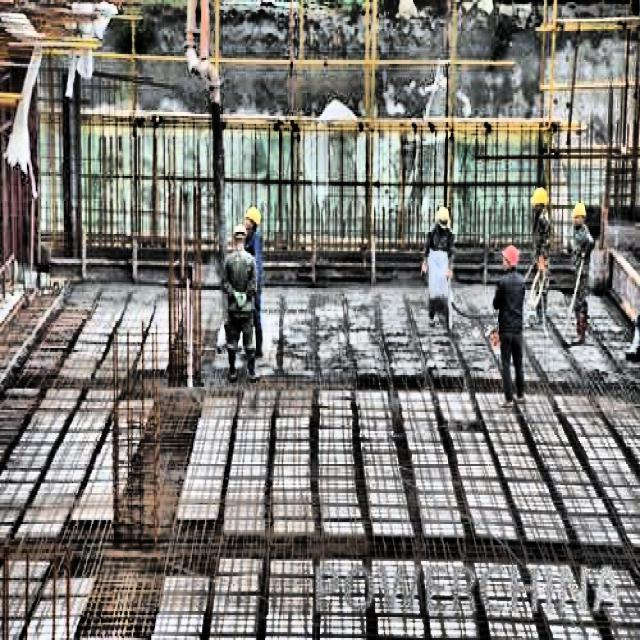helmet: (227, 218, 247, 254), (499, 243, 521, 274), (434, 203, 452, 236), (533, 182, 549, 218), (244, 203, 262, 234), (571, 201, 590, 230)
